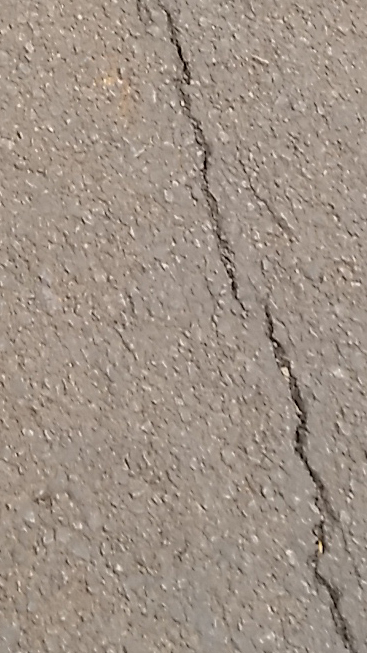A: (127, 1, 361, 647)
